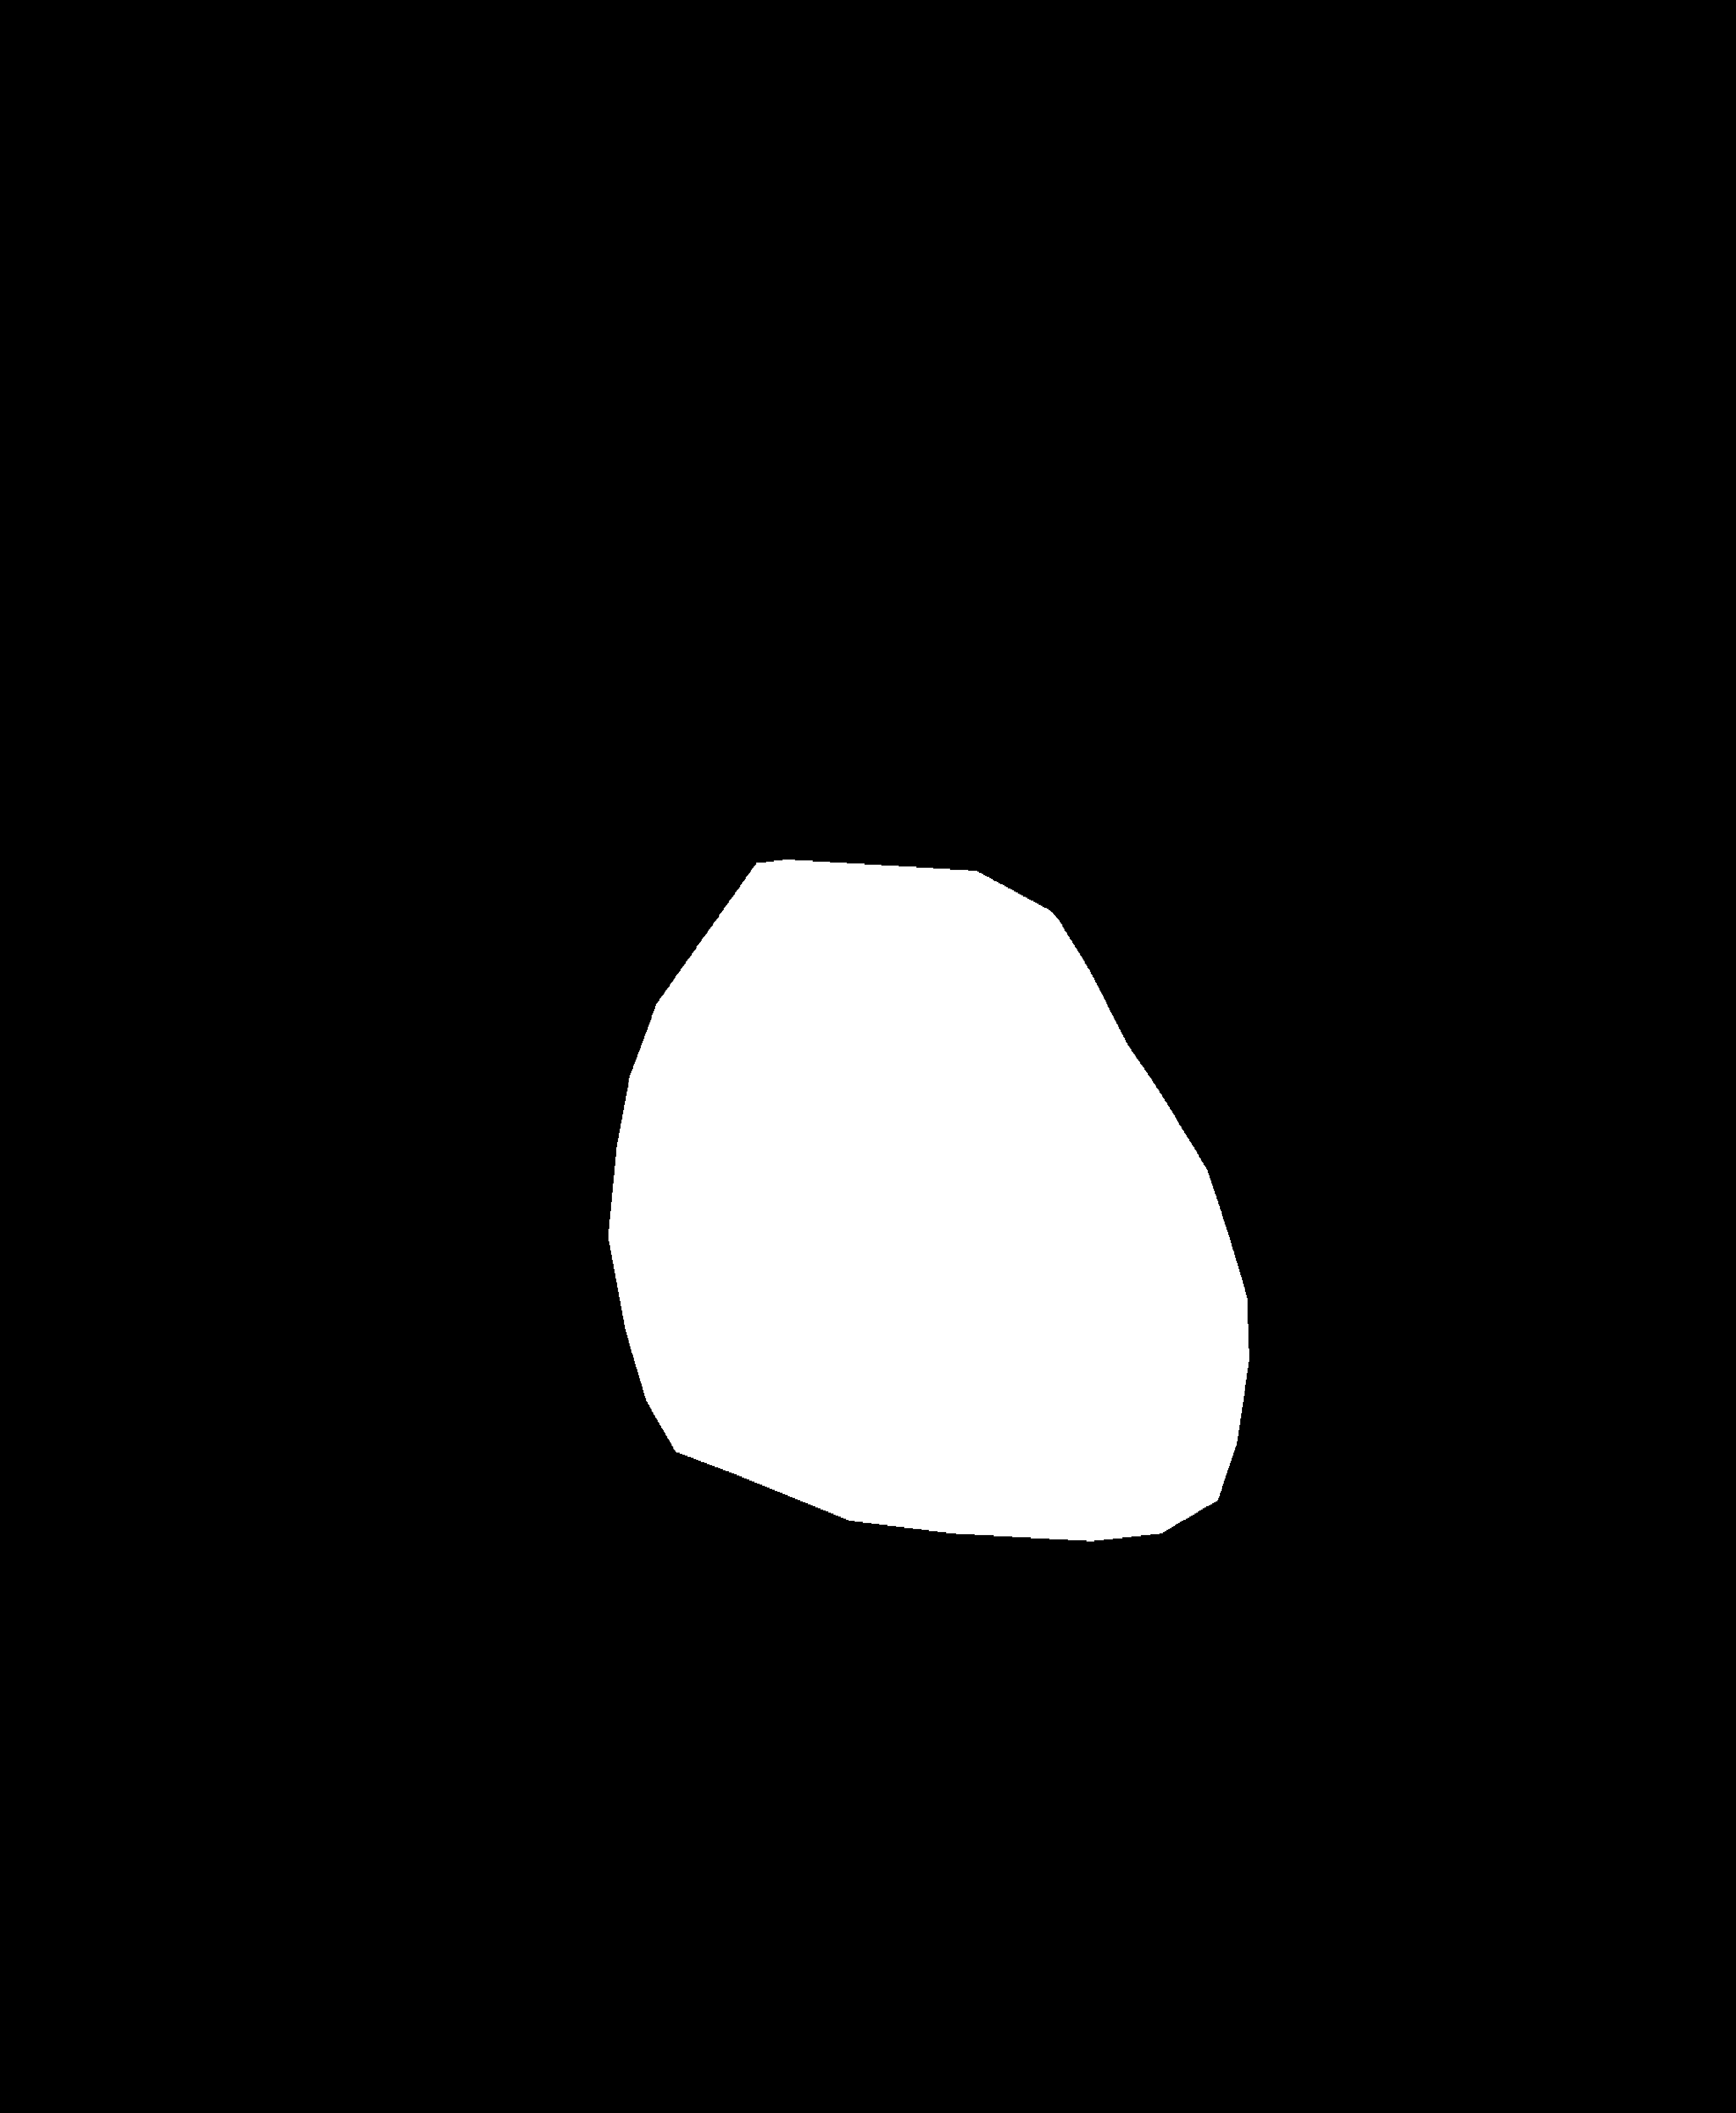heart: (606, 958, 1245, 1493)
left_lung: (67, 219, 771, 1674)
right_lung: (902, 177, 1546, 1723)
